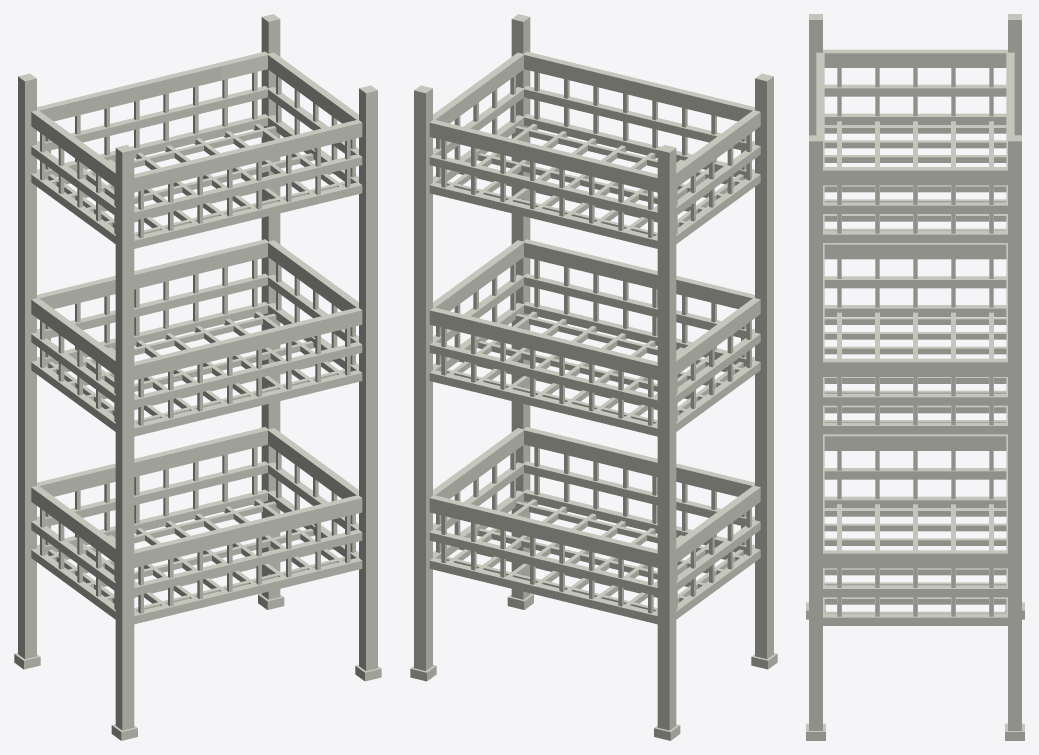
File: plastic-basket-rack.glb
3 views of the same model, side by side, from view 1: azimuth 30°, elevation 25°; view 2: azimuth 150°, elevation 25°; view 3: azimuth 270°, elevation 25° (orthographic). The views are drawn at different scales.
Parts seen in each view (by area): view 1: plastic-basket-rack/post-0-0, plastic-basket-rack/post-1-0, plastic-basket-rack/post-0-1, plastic-basket-rack/L3-lip-frontback--1, plastic-basket-rack/L2-lip-frontback--1, plastic-basket-rack/L1-lip-frontback--1, plastic-basket-rack/post-1-1, plastic-basket-rack/L3-lip-frontback-1, plastic-basket-rack/L1-lip-frontback-1, plastic-basket-rack/L2-lip-frontback-1, plastic-basket-rack/L2-lower-frontback--1, plastic-basket-rack/L1-lower-frontback--1 (+37 smaller); view 2: plastic-basket-rack/post-0-1, plastic-basket-rack/post-1-1, plastic-basket-rack/post-0-0, plastic-basket-rack/L3-lip-frontback-1, plastic-basket-rack/L2-lip-frontback-1, plastic-basket-rack/L1-lip-frontback-1, plastic-basket-rack/post-1-0, plastic-basket-rack/L3-lip-frontback--1, plastic-basket-rack/L1-lip-frontback--1, plastic-basket-rack/L2-lip-frontback--1, plastic-basket-rack/L2-lower-frontback-1, plastic-basket-rack/L3-lower-frontback-1 (+37 smaller); view 3: plastic-basket-rack/post-1-0, plastic-basket-rack/post-1-1, plastic-basket-rack/L1-lip-side-1, plastic-basket-rack/L3-lip-side-1, plastic-basket-rack/L2-lip-side-1, plastic-basket-rack/L3-lip-side--1, plastic-basket-rack/L1-lip-side--1, plastic-basket-rack/L2-lip-side--1, plastic-basket-rack/L1-middle-side-1, plastic-basket-rack/L2-middle-side-1, plastic-basket-rack/L2-lower-side-1, plastic-basket-rack/L2-middle-side--1 (+33 smaller).
Boxes of the visible parts, x1,y1,x2,y2 form: plastic-basket-rack/post-0-0: (115,145,134,730); plastic-basket-rack/post-1-0: (359,85,377,670); plastic-basket-rack/post-0-1: (18,73,36,658); plastic-basket-rack/L3-lip-frontback--1: (134,119,362,192); plastic-basket-rack/L2-lip-frontback--1: (134,307,362,380); plastic-basket-rack/L1-lip-frontback--1: (134,495,362,567); plastic-basket-rack/post-1-1: (261,14,280,599); plastic-basket-rack/L3-lip-frontback-1: (35,51,270,121); plastic-basket-rack/L1-lip-frontback-1: (35,427,270,496); plastic-basket-rack/L2-lip-frontback-1: (37,239,270,308); plastic-basket-rack/L2-lower-frontback--1: (134,369,362,436); plastic-basket-rack/L1-lower-frontback--1: (134,557,362,624); plastic-basket-rack/post-0-1: (657,145,676,730); plastic-basket-rack/post-1-1: (414,85,432,670); plastic-basket-rack/post-0-0: (755,73,773,658); plastic-basket-rack/L3-lip-frontback-1: (429,119,657,192); plastic-basket-rack/L2-lip-frontback-1: (429,307,657,380); plastic-basket-rack/L1-lip-frontback-1: (429,495,657,567); plastic-basket-rack/post-1-0: (511,14,530,599); plastic-basket-rack/L3-lip-frontback--1: (521,51,756,121); plastic-basket-rack/L1-lip-frontback--1: (521,427,756,496); plastic-basket-rack/L2-lip-frontback--1: (521,239,756,308); plastic-basket-rack/L2-lower-frontback-1: (429,369,657,436); plastic-basket-rack/L3-lower-frontback-1: (429,182,657,248); plastic-basket-rack/post-1-0: (809,135,822,730); plastic-basket-rack/post-1-1: (1008,135,1021,730); plastic-basket-rack/L1-lip-side-1: (823,550,1007,568); plastic-basket-rack/L3-lip-side-1: (823,167,1007,185); plastic-basket-rack/L2-lip-side-1: (823,358,1007,376); plastic-basket-rack/L3-lip-side--1: (823,49,1007,67); plastic-basket-rack/L1-lip-side--1: (823,434,1007,450); plastic-basket-rack/L2-lip-side--1: (823,243,1007,259); plastic-basket-rack/L1-middle-side-1: (823,585,1007,597); plastic-basket-rack/L2-middle-side-1: (823,393,1007,405); plastic-basket-rack/L2-lower-side-1: (823,422,1007,434); plastic-basket-rack/L2-middle-side--1: (824,276,1006,288).
Size of the model in its own units: 0.4355 by 0.9375 by 0.3105.
1 material, 1 textured.
